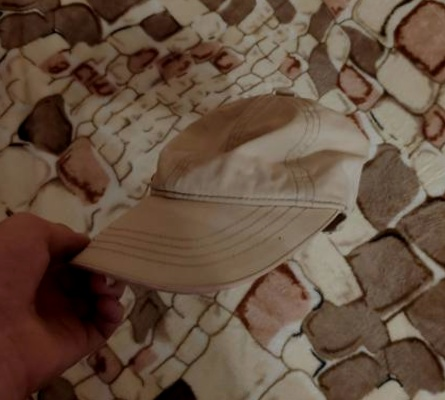Hat: (74, 42, 391, 329)
